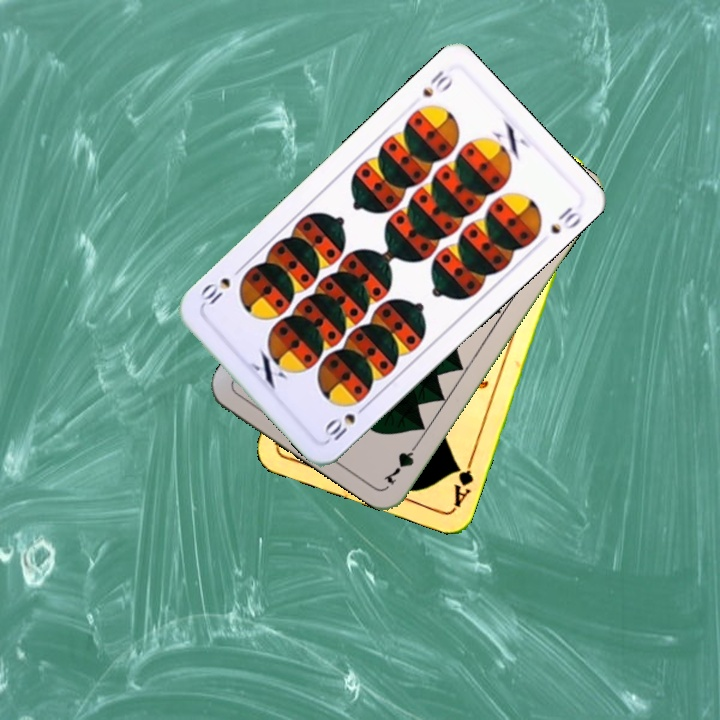G7: (380, 435, 424, 488)
GA: (449, 452, 476, 510)
S10: (320, 399, 371, 446), (418, 66, 456, 100)
